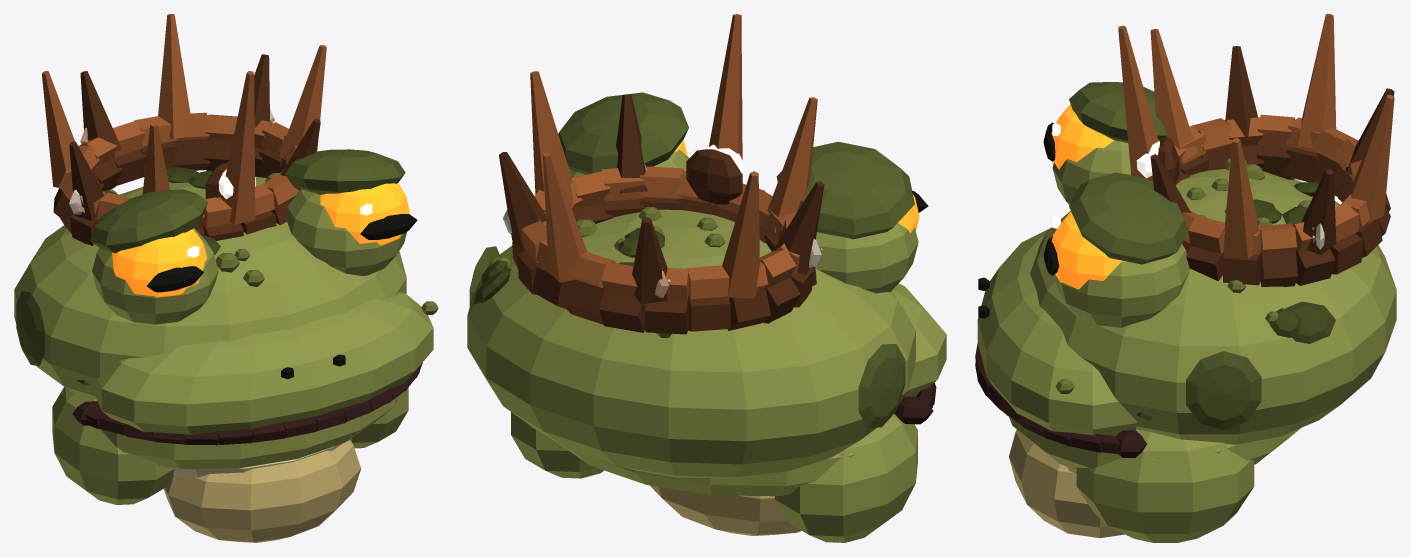
The model's file is pondkin_bloatking_head.glb.
3 views of the same model, side by side, from view 1: azimuth 30°, elevation 25°; view 2: azimuth 150°, elevation 25°; view 3: azimuth 270°, elevation 25° (orthographic). The views are drawn at different scales.
Visible parts, largest first — view 1: pondkin_bloatking_head; view 2: pondkin_bloatking_head; view 3: pondkin_bloatking_head.
Boxes of the visible parts, left/top/right/bottom form: pondkin_bloatking_head: left=14, top=14, right=438, bottom=542; pondkin_bloatking_head: left=467, top=14, right=946, bottom=542; pondkin_bloatking_head: left=975, top=14, right=1396, bottom=542.
Bounding box in the file's own units: 1.24 × 1.5 × 1.16.
